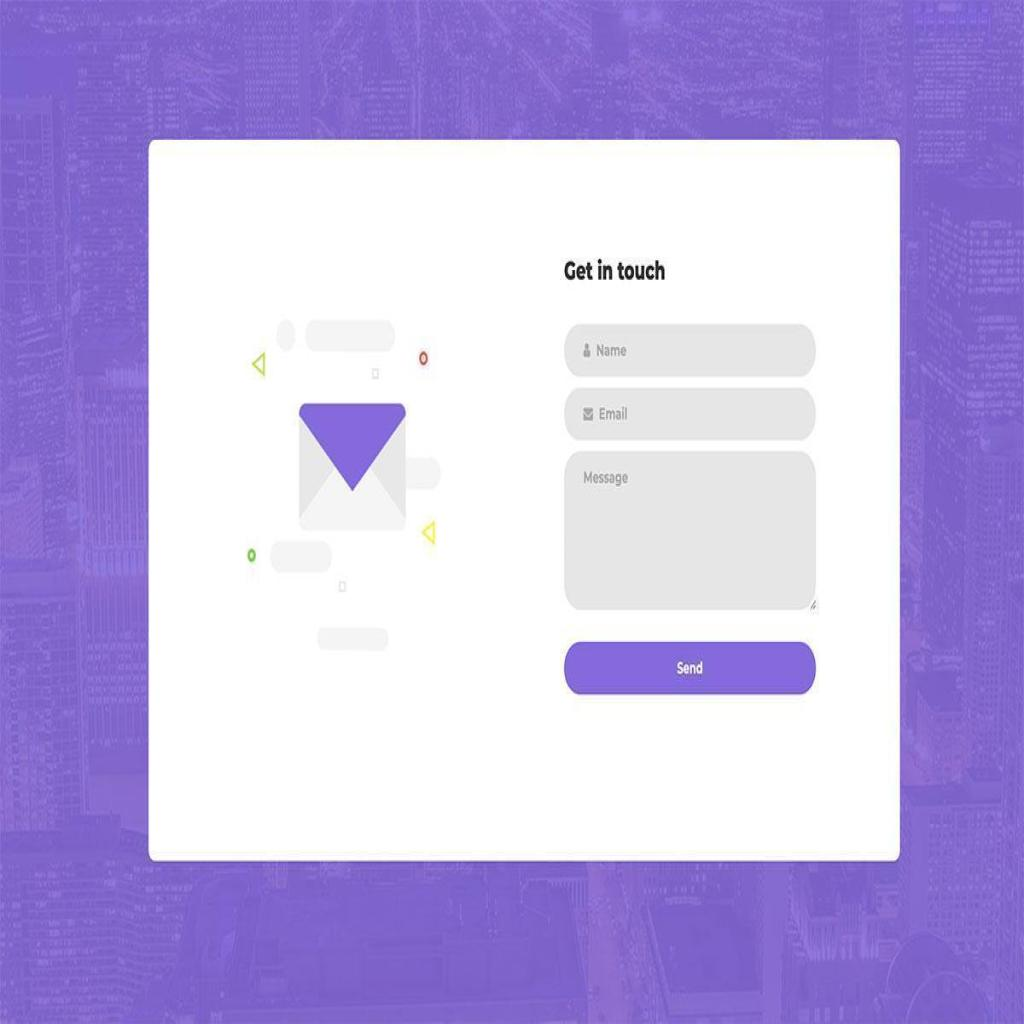button: (563, 641, 817, 695)
icon: (580, 338, 596, 366), (582, 397, 595, 427)
input: (565, 386, 817, 445), (564, 322, 815, 378)
label: (554, 250, 672, 292)
